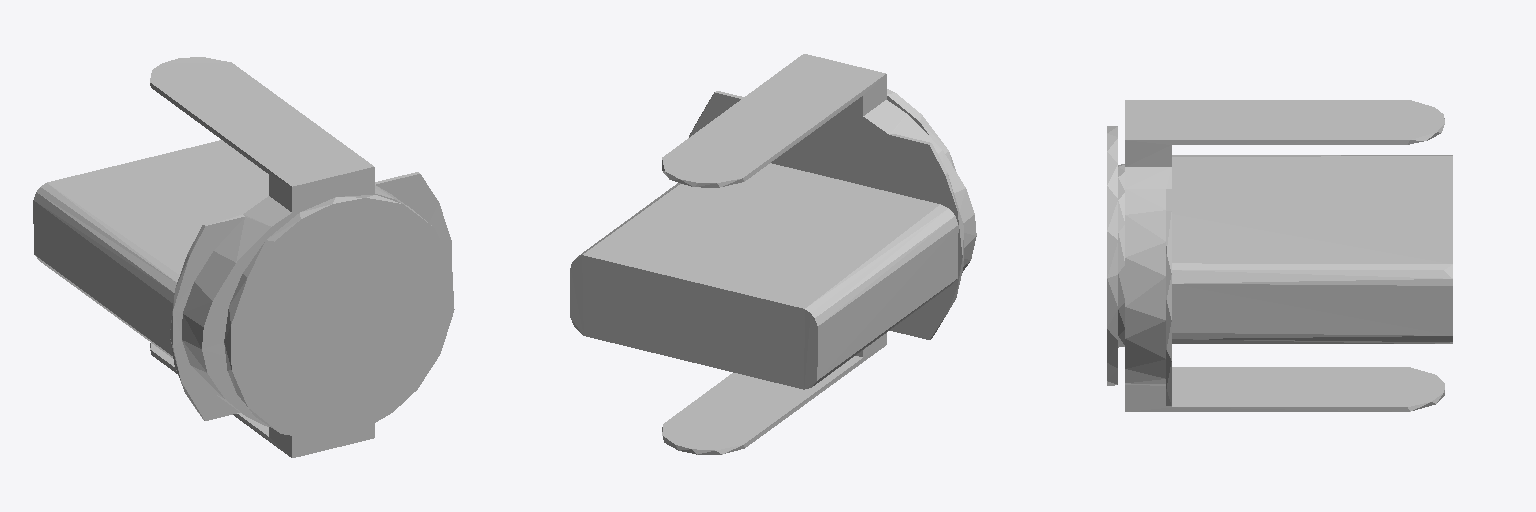
Rendered from fl_caster_rotation_link.OBJ.
3 renders of one model, left to right at view 1: azimuth 30°, elevation 25°; view 2: azimuth 150°, elevation 25°; view 3: azimuth 270°, elevation 25°, orthographic.
Visible parts, largest first — view 1: /ambf/env/pr2/fl_caster_rotation_link_/ambf/env/pr2/fl_caster_ro; view 2: /ambf/env/pr2/fl_caster_rotation_link_/ambf/env/pr2/fl_caster_ro; view 3: /ambf/env/pr2/fl_caster_rotation_link_/ambf/env/pr2/fl_caster_ro.
Boxes of the visible parts, box(x1,y1,x2,y2) form: /ambf/env/pr2/fl_caster_rotation_link_/ambf/env/pr2/fl_caster_ro: box(33, 57, 454, 457); /ambf/env/pr2/fl_caster_rotation_link_/ambf/env/pr2/fl_caster_ro: box(570, 54, 976, 454); /ambf/env/pr2/fl_caster_rotation_link_/ambf/env/pr2/fl_caster_ro: box(1107, 100, 1452, 411).
Size of the model in its own units: 0.1872 by 0.173 by 0.1996.